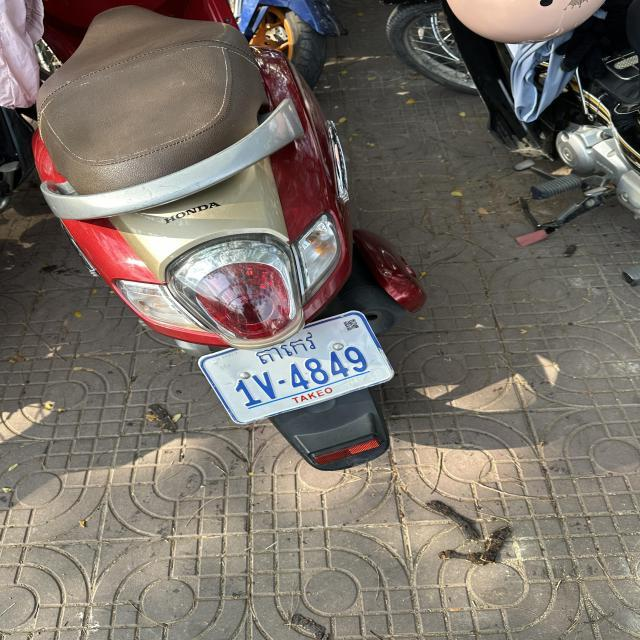Takeo: (255, 330, 318, 365)
